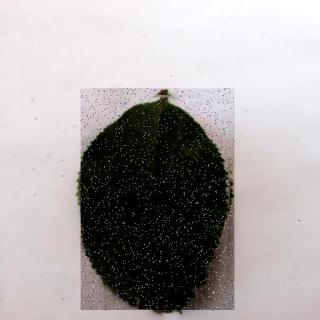Algal Leaf: (82, 90, 236, 312)
